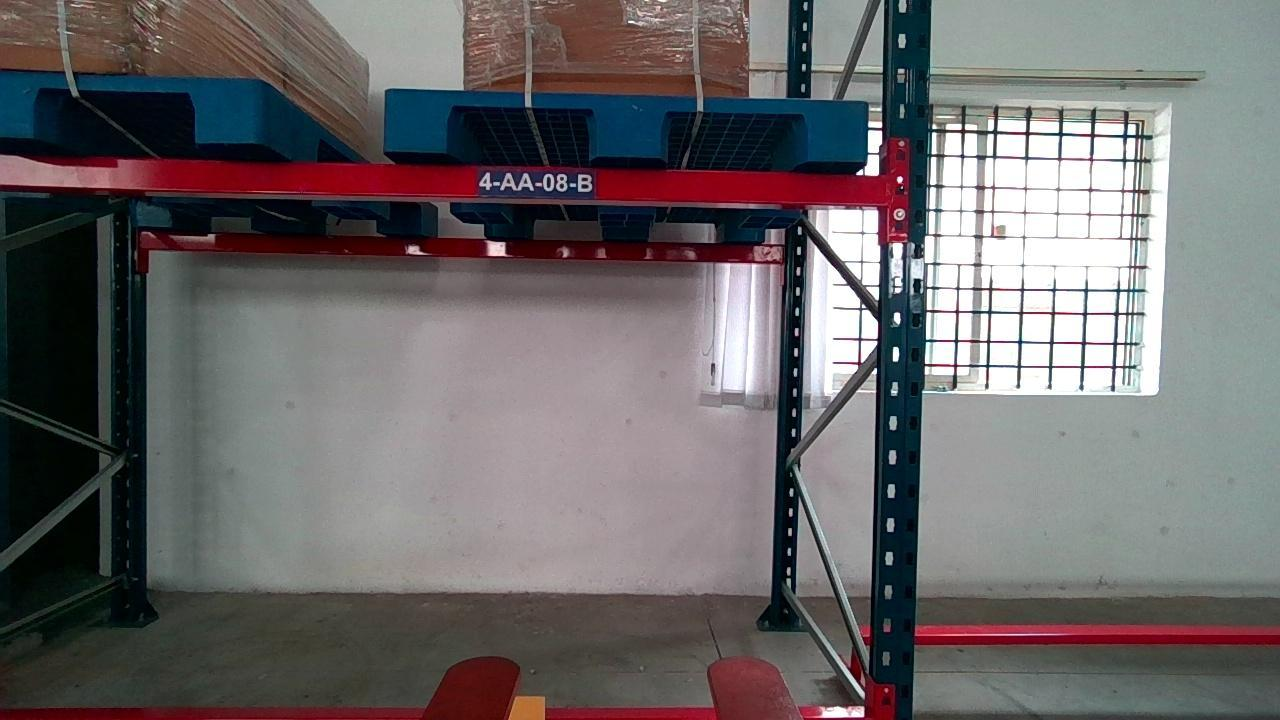h_rack: (0, 153, 891, 206)
small_pallet: (383, 89, 868, 161)
